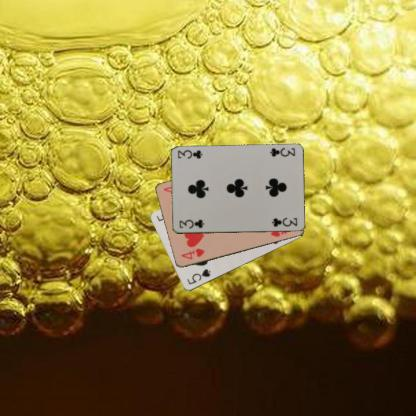3c: (267, 146, 296, 158), (177, 217, 205, 229)
4h: (178, 246, 206, 261)
5s: (184, 266, 212, 286)
